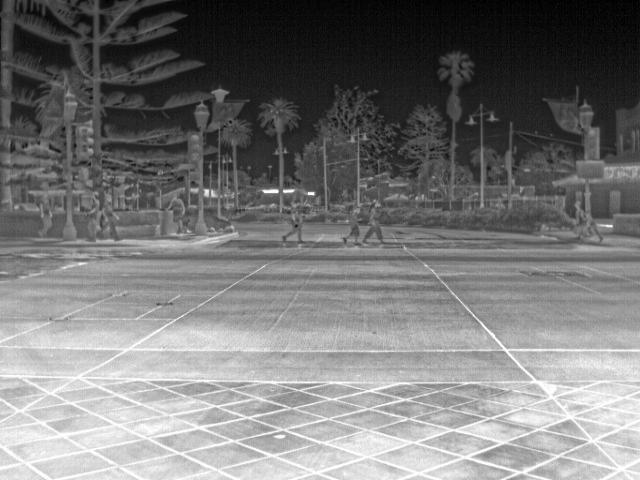person: (278, 200, 306, 243), (96, 194, 120, 241), (340, 205, 366, 245), (364, 198, 387, 243), (35, 189, 56, 238), (168, 194, 188, 232)
